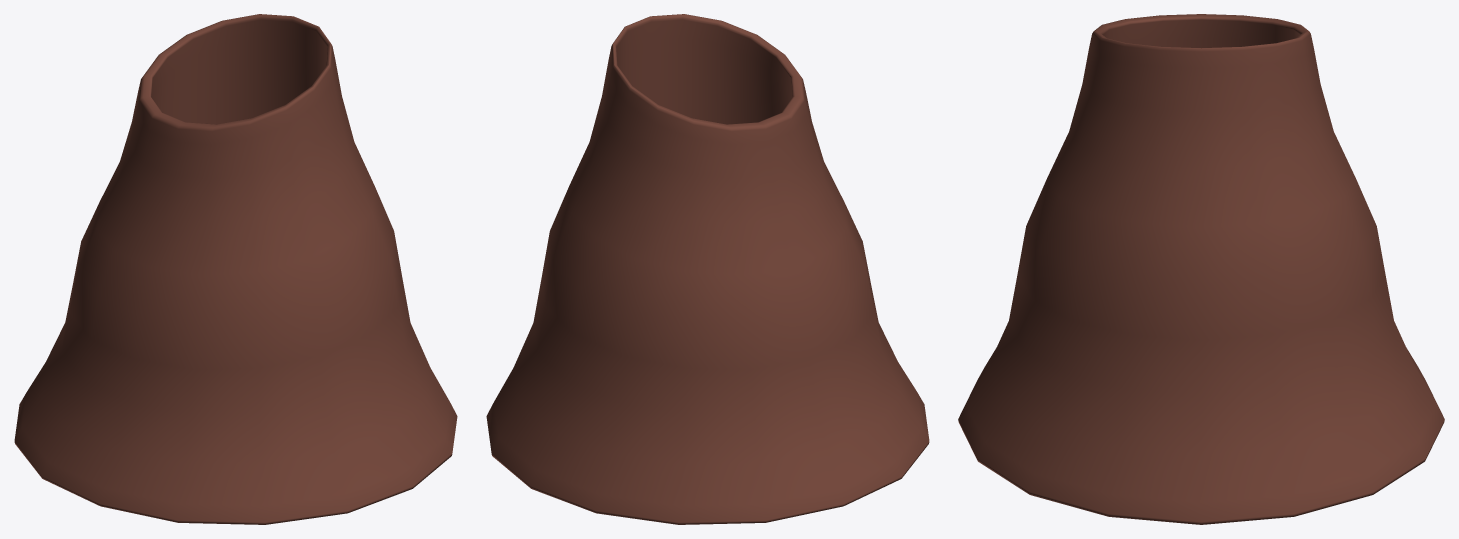
Rendered from Ant_Nest.fbx.
3 renders of one model, left to right at view 1: azimuth 30°, elevation 25°; view 2: azimuth 150°, elevation 25°; view 3: azimuth 270°, elevation 25°, orthographic. The views are drawn at different scales.
Parts seen in each view (by area): view 1: pCone1; view 2: pCone1; view 3: pCone1.
Part boxes in pixels (<box>): pCone1: <box>14,14,457,524</box>; pCone1: <box>486,14,929,524</box>; pCone1: <box>958,14,1444,524</box>.
Bounding box in the file's own units: 3.02 × 2.86 × 3.02.
